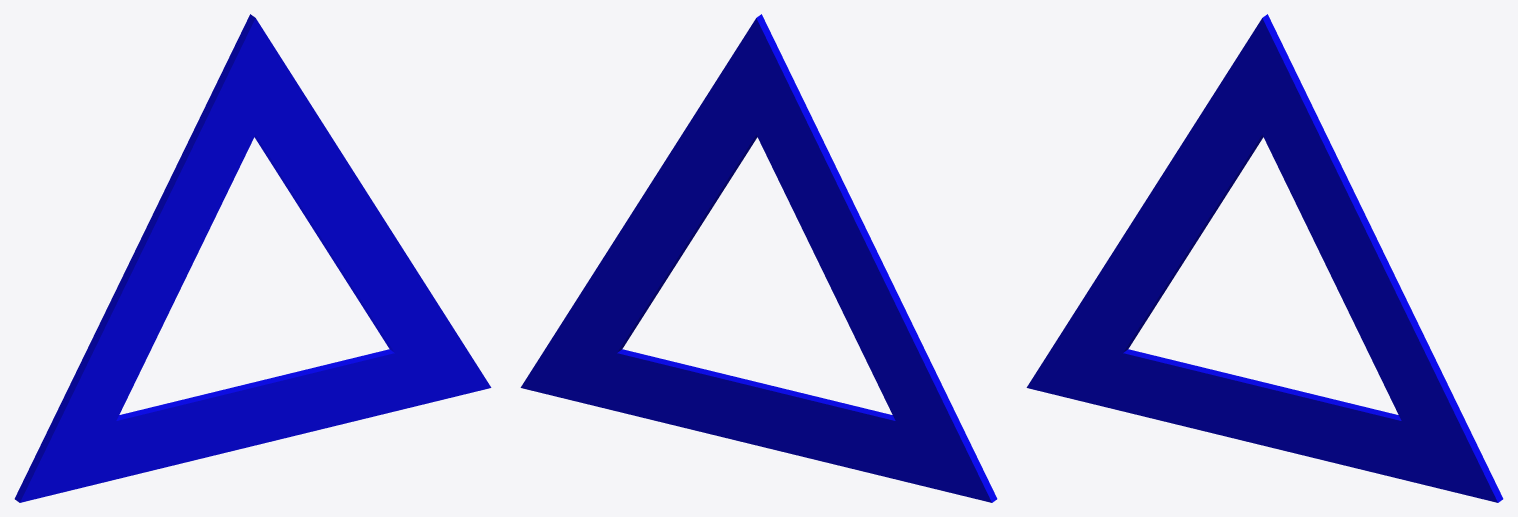
File: gate_triangle_small_blue.dae
3 views of the same model, side by side, from view 1: azimuth 30°, elevation 25°; view 2: azimuth 150°, elevation 25°; view 3: azimuth 330°, elevation 25° (orthographic).
Parts seen in each view (by area): view 1: Triangle Small; view 2: Triangle Small; view 3: Triangle Small.
Boxes of the visible parts, x1,y1,x2,y2 form: Triangle Small: (14, 14, 491, 502); Triangle Small: (520, 14, 997, 502); Triangle Small: (1026, 14, 1503, 502).
Size of the model in its own units: 1.27 by 0.025 by 1.1.
